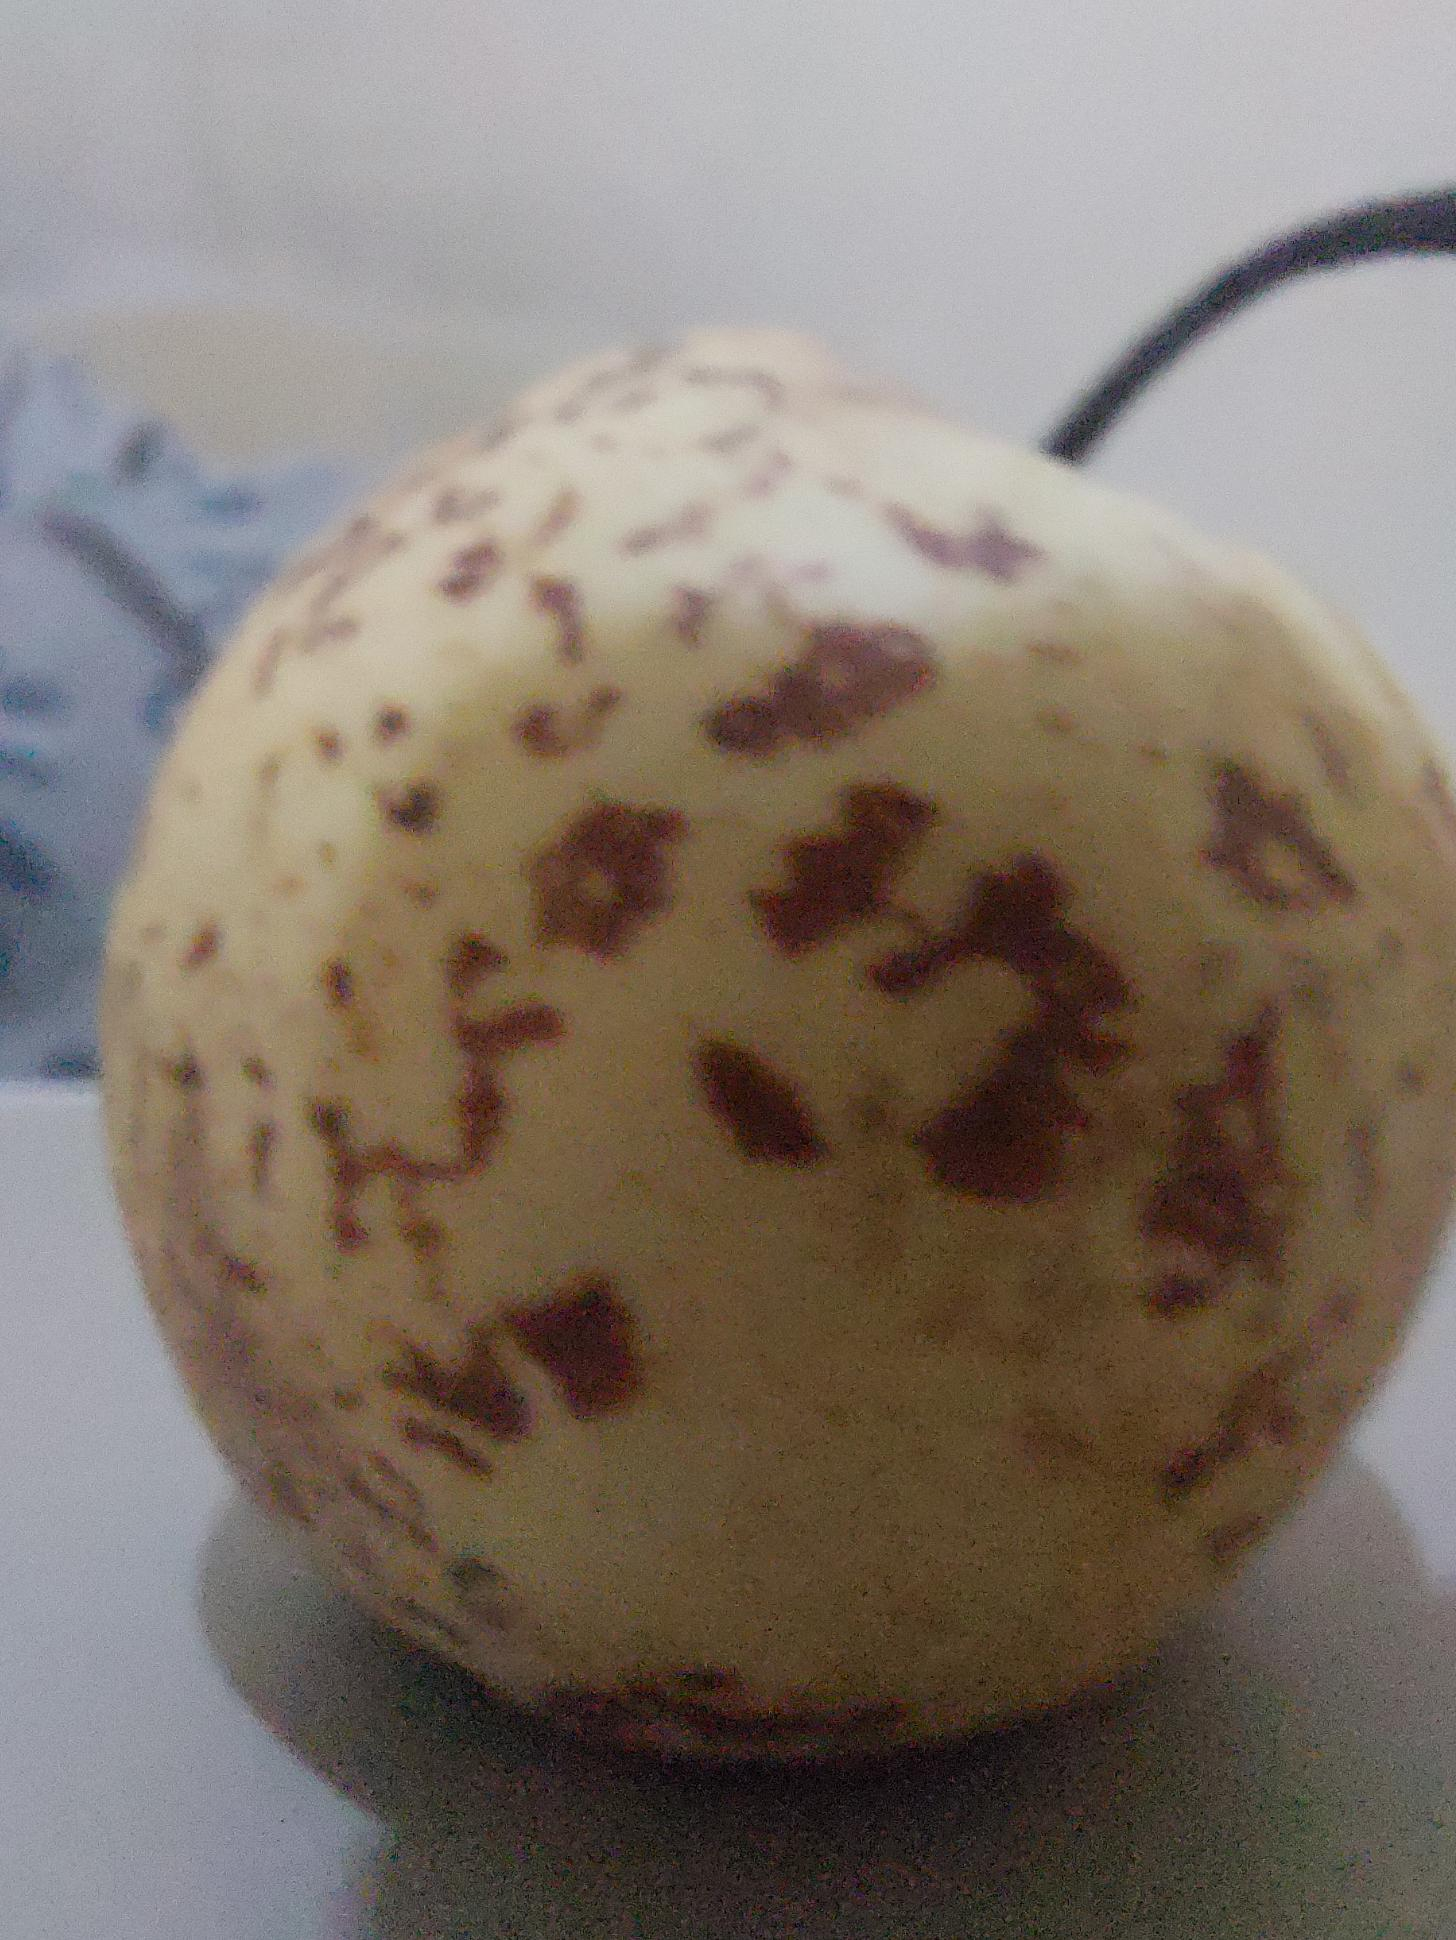Bad Pear: (101, 307, 1456, 1744)
